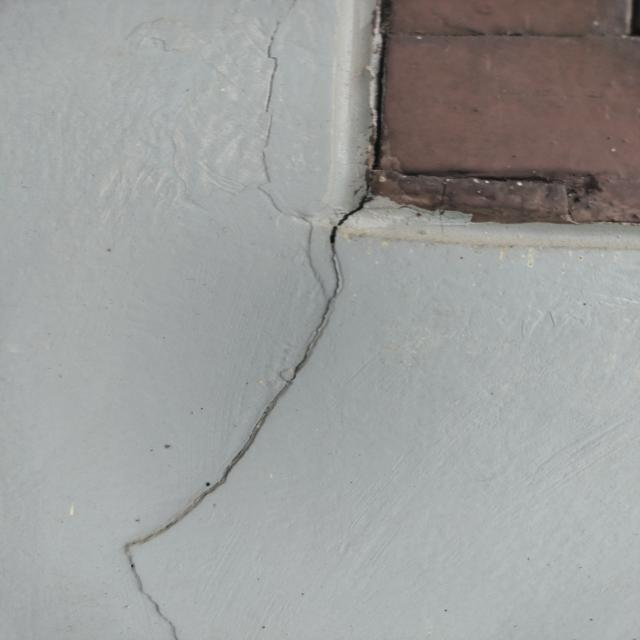Crack: (121, 222, 348, 636)
